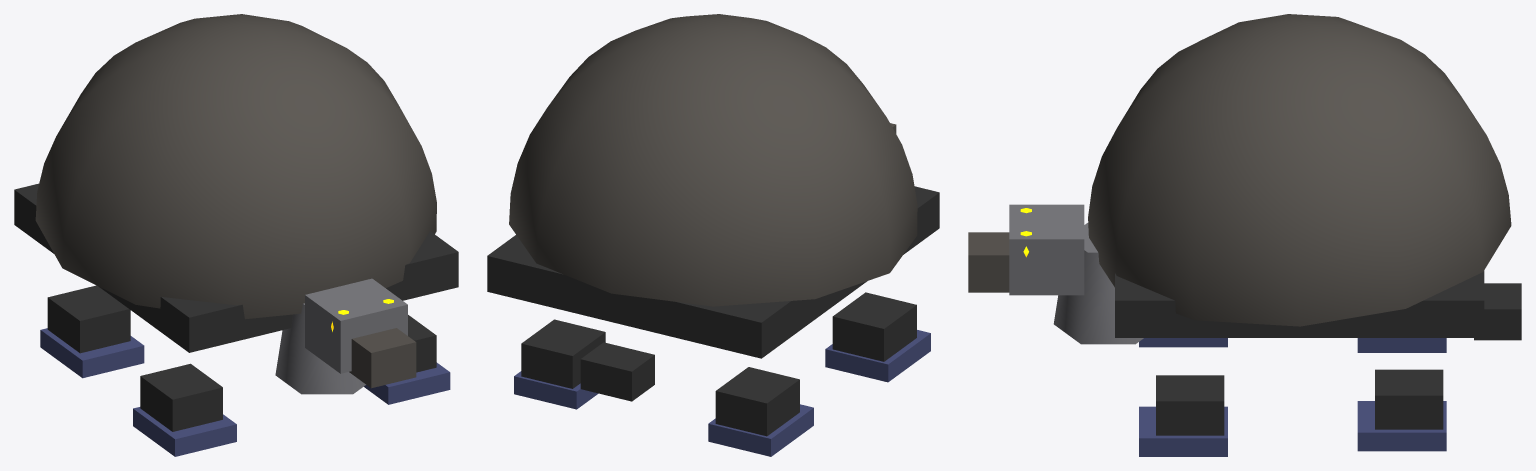
File: IpsGiantTortoiseA.glb
3 renders of one model, left to right at view 1: azimuth 30°, elevation 25°; view 2: azimuth 150°, elevation 25°; view 3: azimuth 270°, elevation 25°, orthographic. The views are drawn at different scales.
Visible parts, largest first — view 1: IpsGiantTortoiseBody; view 2: IpsGiantTortoiseBody; view 3: IpsGiantTortoiseBody.
Part boxes in pixels (box(x1,y1,x2,y2)): IpsGiantTortoiseBody: box(14, 14, 458, 456); IpsGiantTortoiseBody: box(487, 14, 939, 456); IpsGiantTortoiseBody: box(968, 14, 1521, 456).
Size of the model in its own units: 1.24 by 1.14 by 1.62.
